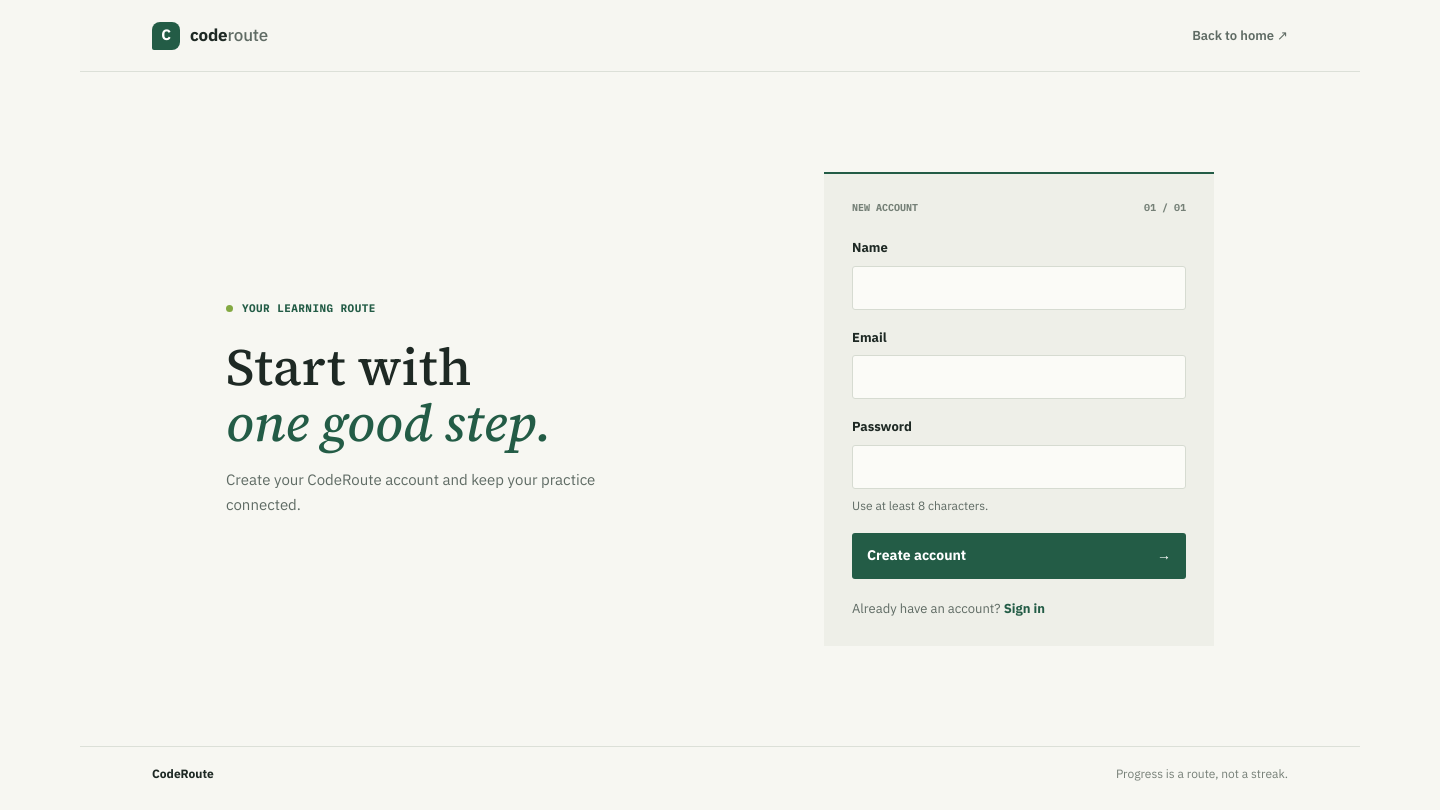
AuthPages Component › handles duplicate registration and displays conflict error
Type "Ada Lovelace" into the field labelled "Name". click: (1019, 288)
box: [852, 266, 1186, 310]
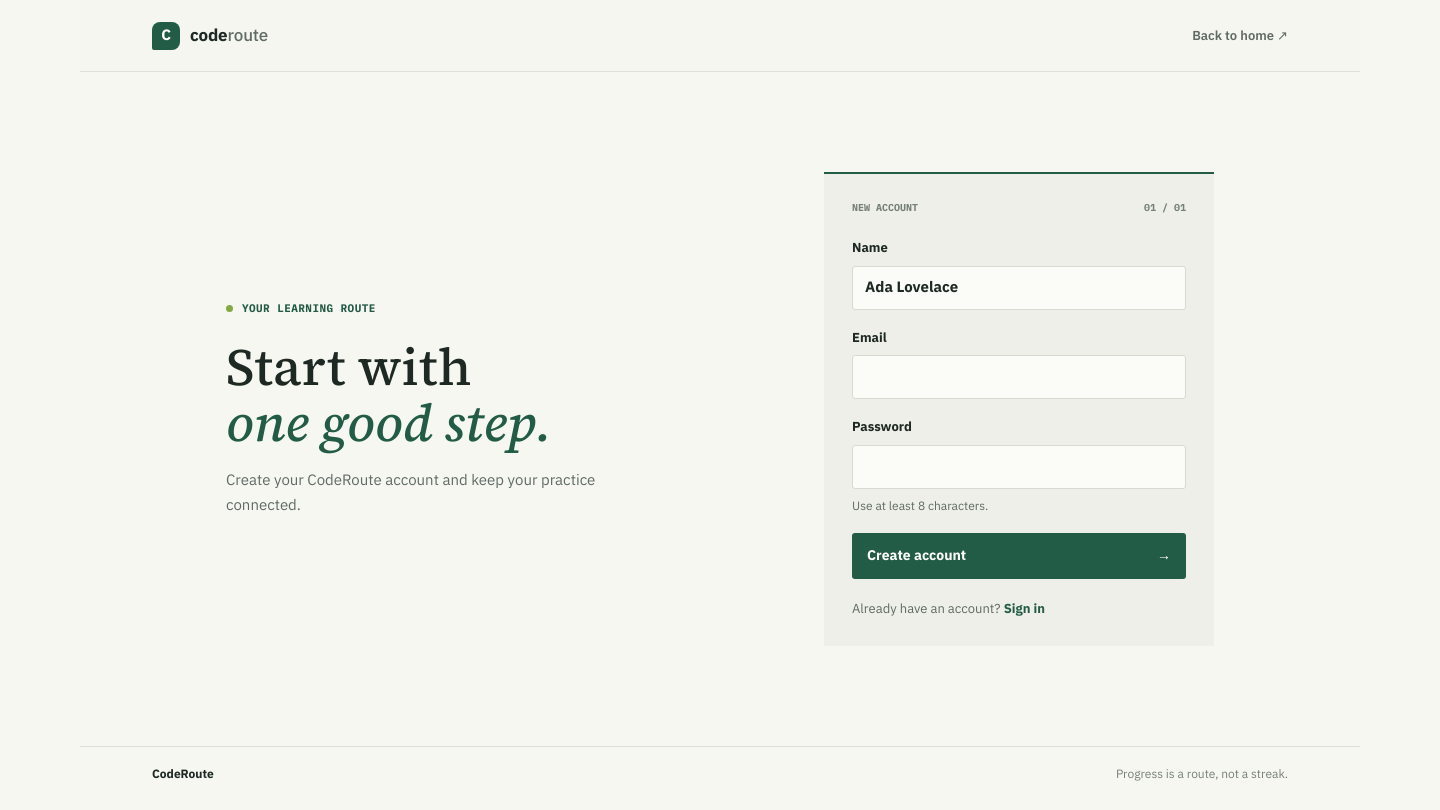
Type "existing@example.com" into the field labelled "Email". click: (1019, 377)
box: [852, 355, 1186, 399]
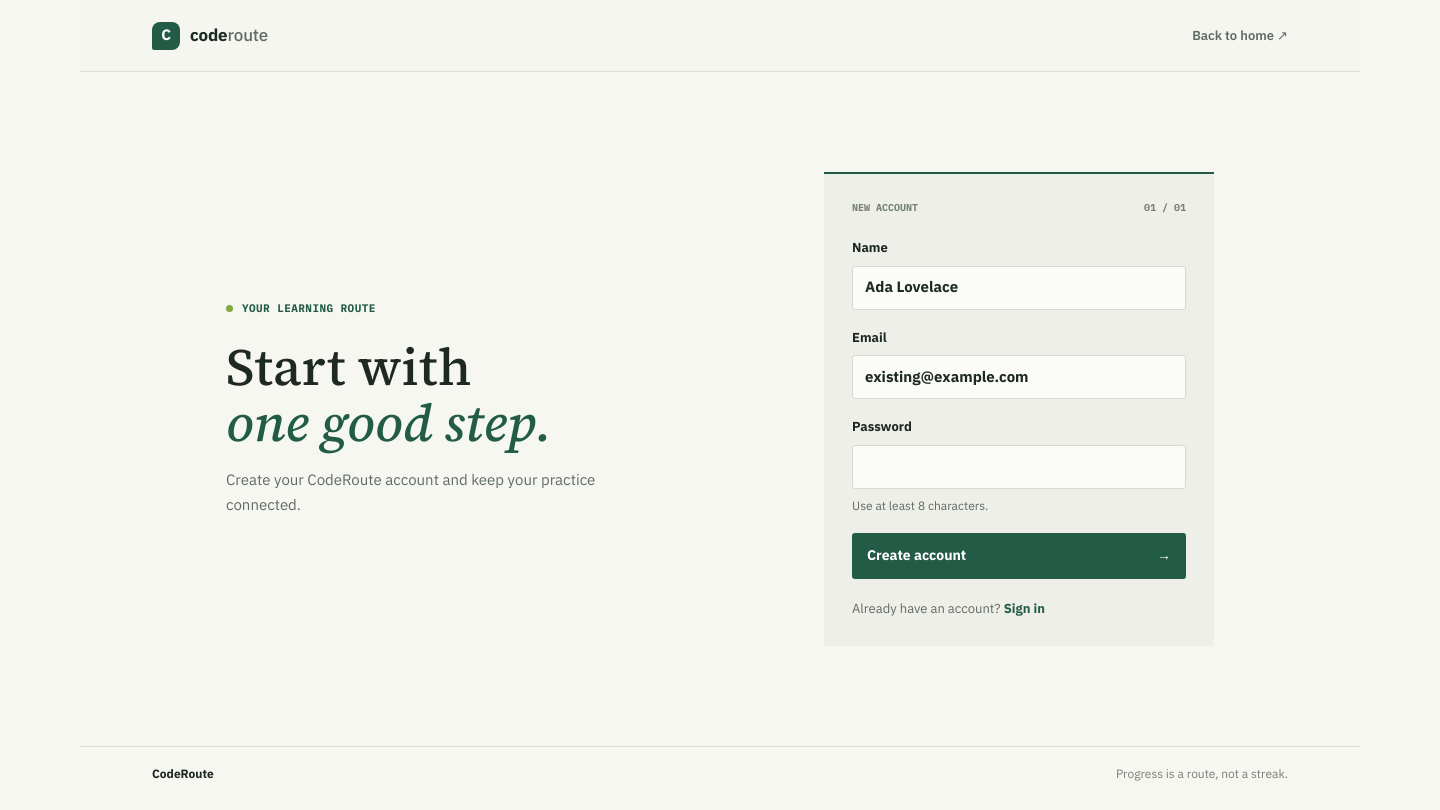
Type "RoutePass123" into the password field labelled "Password Use at least 8 characters.". click: (1019, 466)
box: [852, 444, 1186, 488]
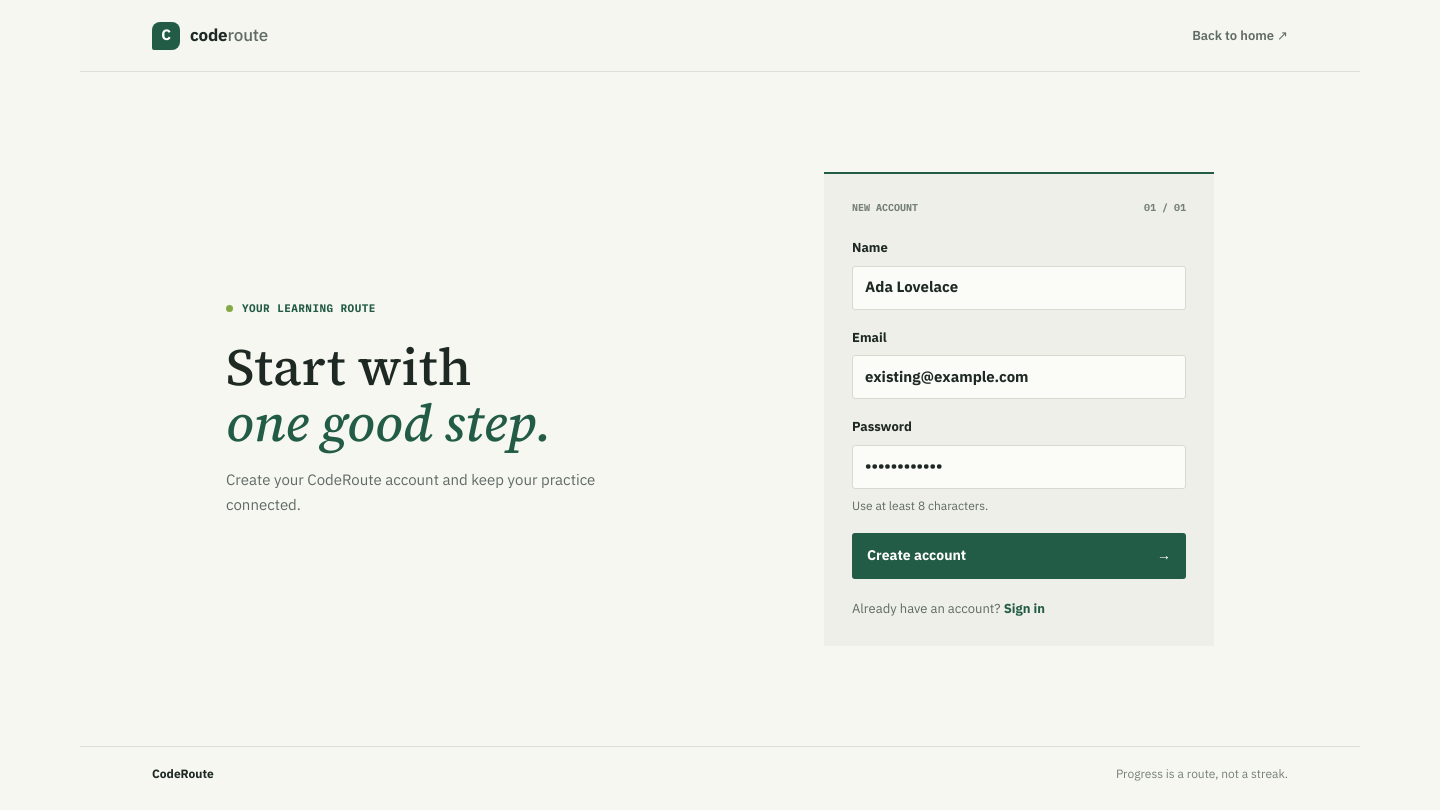
Click the button "Create account →". click: (917, 555)
box: [852, 532, 1186, 578]
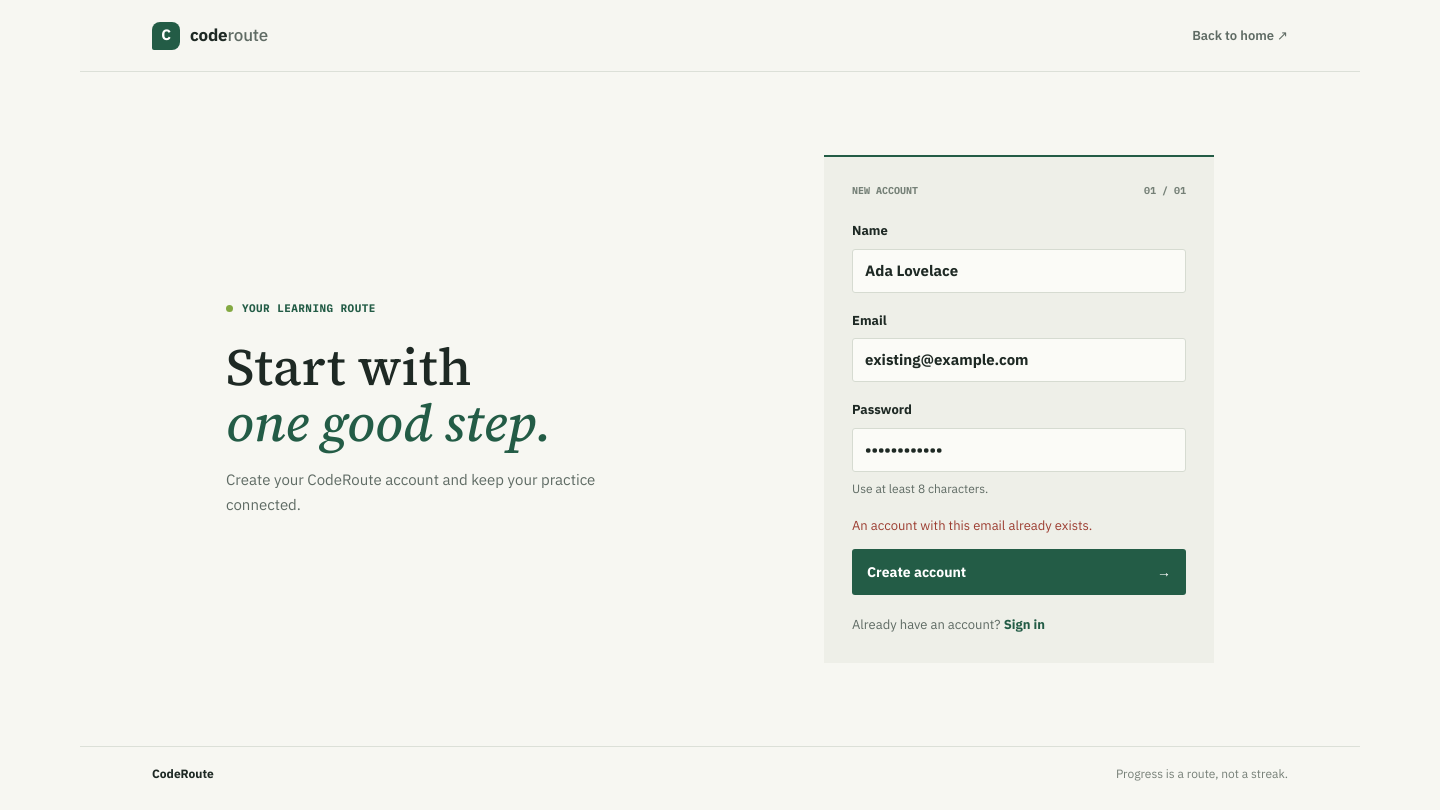
Expected: the message reads "An account with this email already exists.", [852, 517, 1092, 534]
